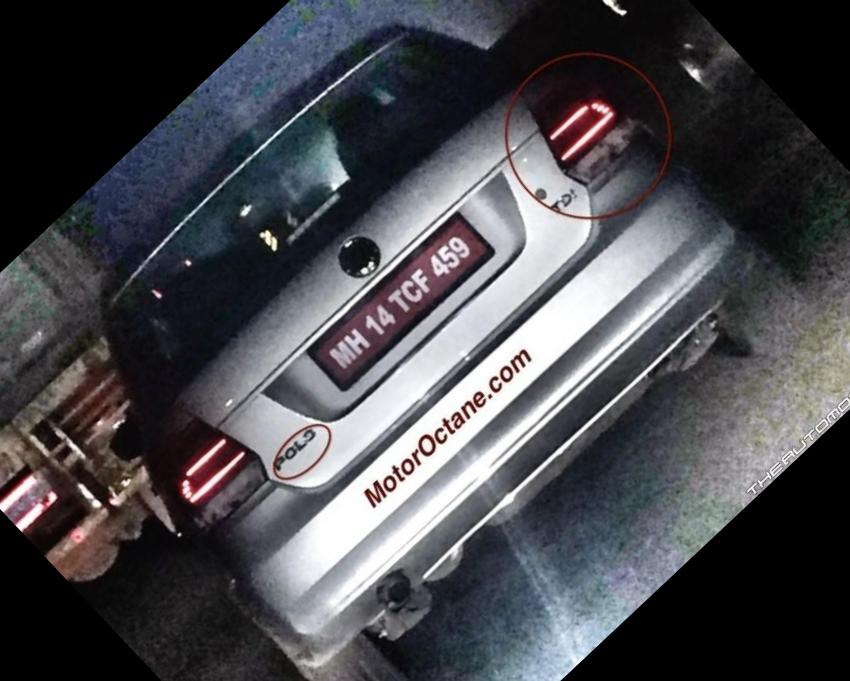plate: (292, 202, 499, 402)
